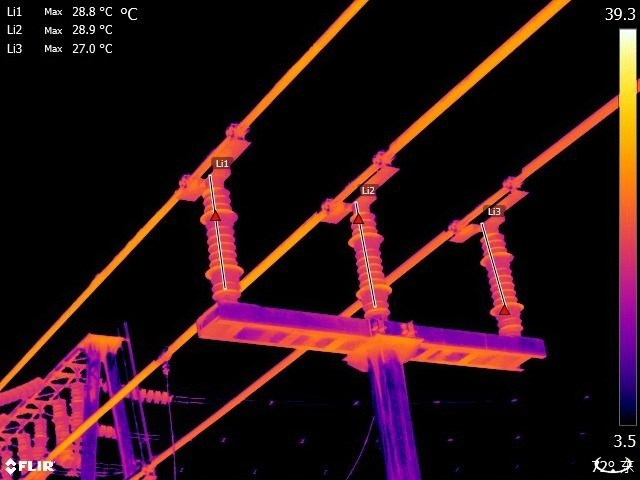insulator: (100, 381, 172, 406), (1, 372, 45, 406), (50, 394, 73, 451), (70, 380, 85, 455), (34, 412, 50, 461), (18, 426, 30, 474), (1, 447, 18, 479)
post insulator: (200, 176, 245, 300), (478, 222, 529, 330), (347, 208, 393, 318)
